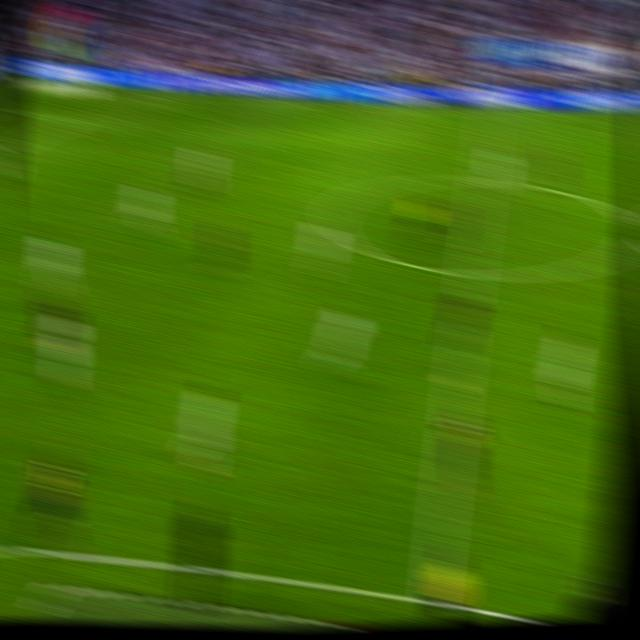halfcircle_bottom: (457, 258, 484, 286)
halfcircle_top: (469, 168, 495, 192)
midline_bottom_intersection: (418, 590, 446, 614)
midline_top_intersection: (479, 105, 501, 120)
